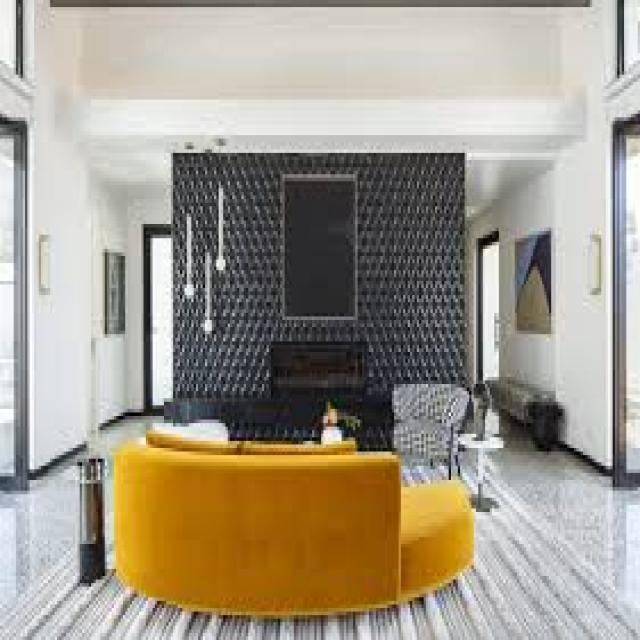Chair: (383, 380, 468, 465)
Lamp: (193, 254, 220, 334), (212, 179, 229, 276), (181, 206, 197, 302)
Sofa: (116, 428, 460, 618)
Table: (462, 428, 505, 513)
